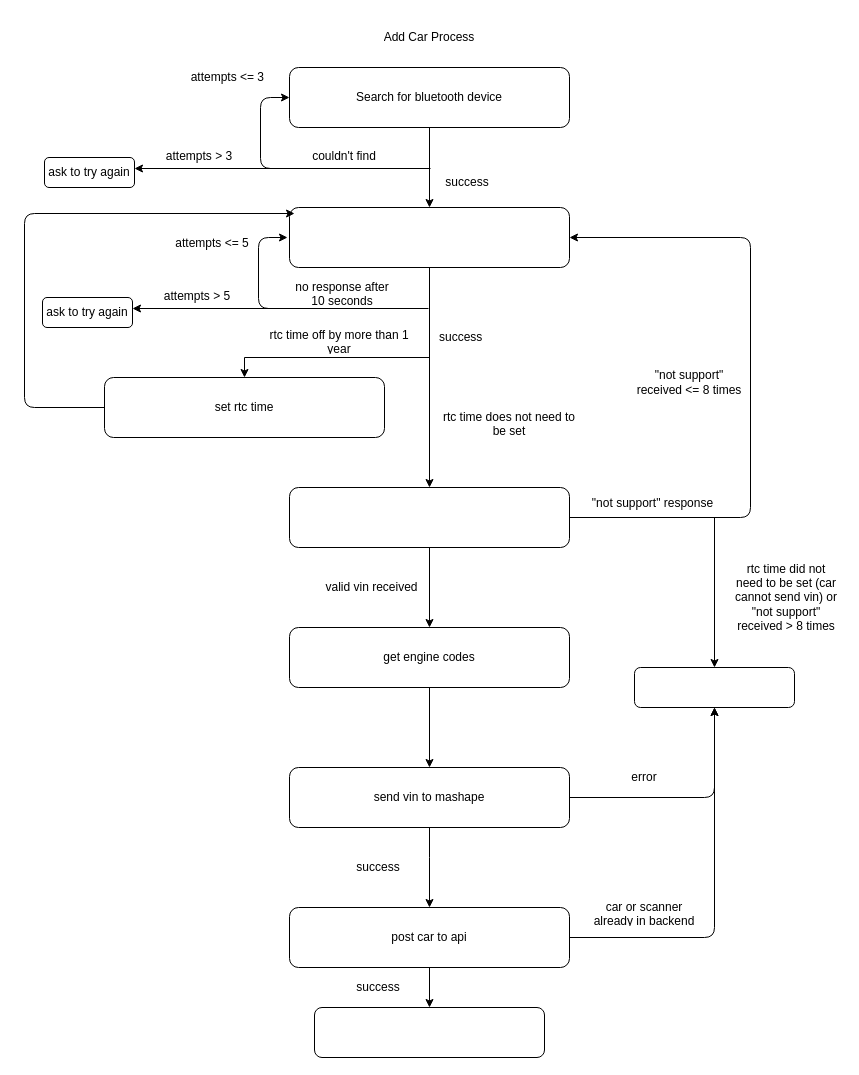
The diagram is 859 pixels wide and 1075 high, and some of its shapes have lost their labels. Each missing label, with the box of its shape:
ask for manual vin input: (634, 666, 794, 708)
get rtc time: (288, 206, 570, 268)
get vin: (288, 486, 570, 548)
go back to main activity: (314, 1006, 544, 1058)
